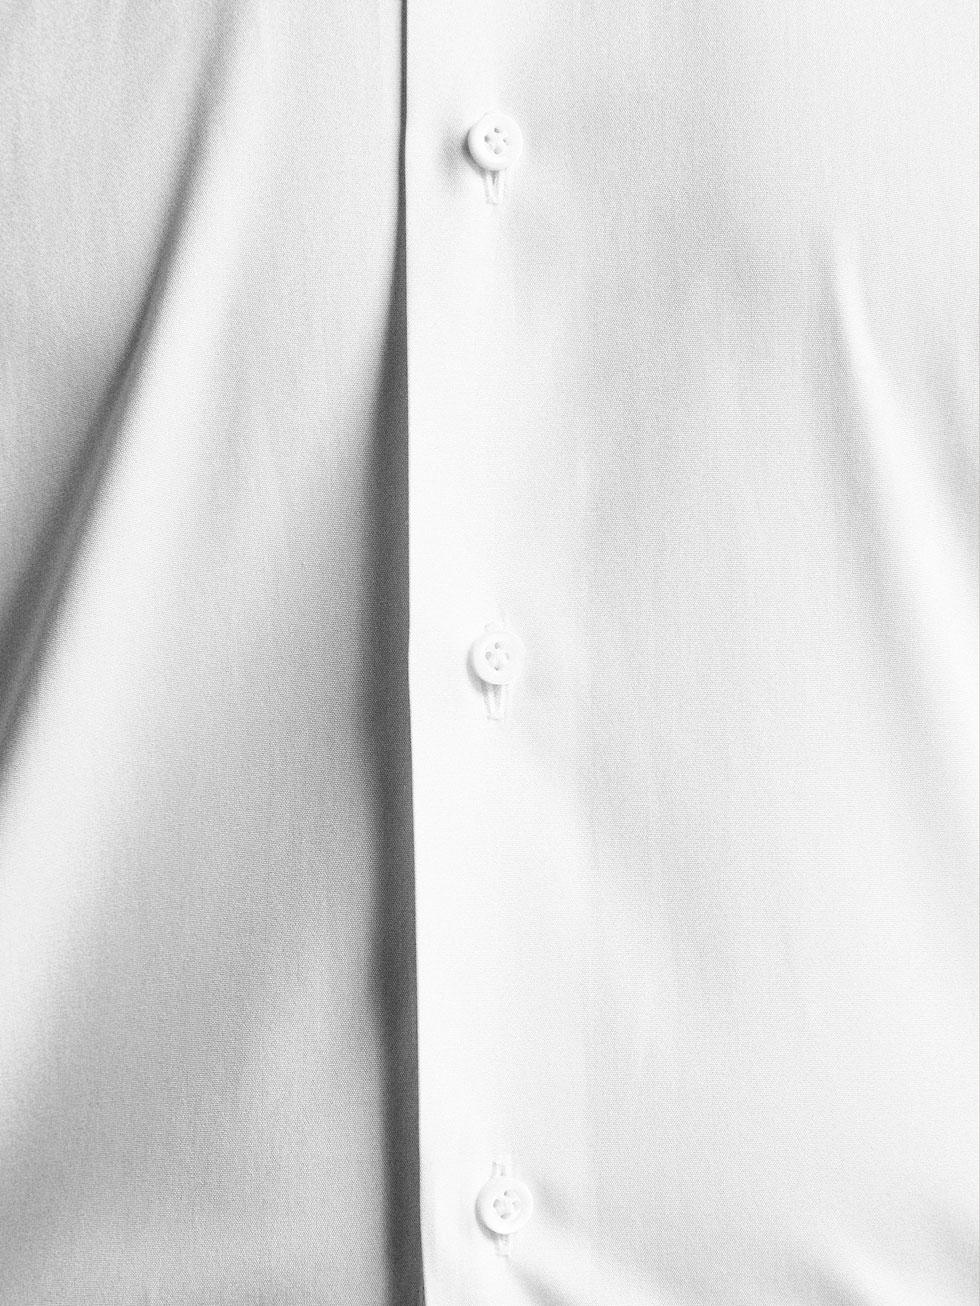teeshirt: (1, 5, 980, 1306)
